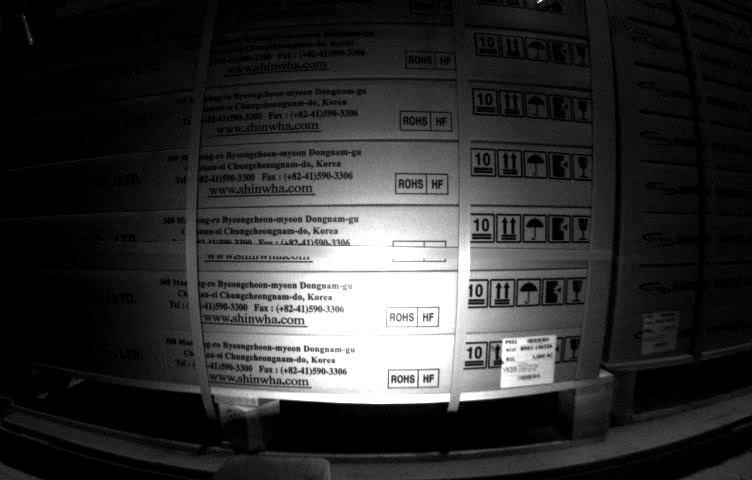True Barcode: (501, 337, 556, 385), (641, 310, 677, 351)
